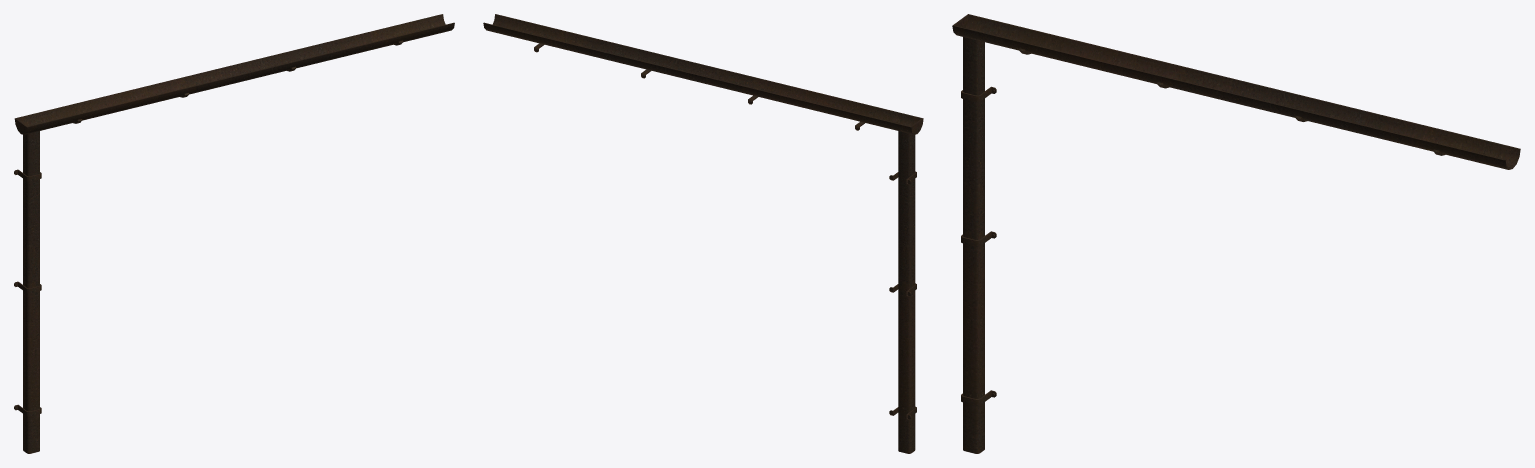
The model's file is rainwater_pipe_hl_1_end_2.glb.
3 renders of one model, left to right at view 1: azimuth 30°, elevation 25°; view 2: azimuth 150°, elevation 25°; view 3: azimuth 330°, elevation 25°, orthographic. The views are drawn at different scales.
Parts seen in each view (by area): view 1: rainwater_pipe_hl_1_end_2; view 2: rainwater_pipe_hl_1_end_2; view 3: rainwater_pipe_hl_1_end_2.
Part boxes in pixels (x1,y1,x2,y2): rainwater_pipe_hl_1_end_2: (14,14,454,453); rainwater_pipe_hl_1_end_2: (483,14,923,453); rainwater_pipe_hl_1_end_2: (952,14,1520,453).
Bounding box in the file's own units: 4 × 2.95 × 0.21.
Materials: 1 (1 with a texture image).
